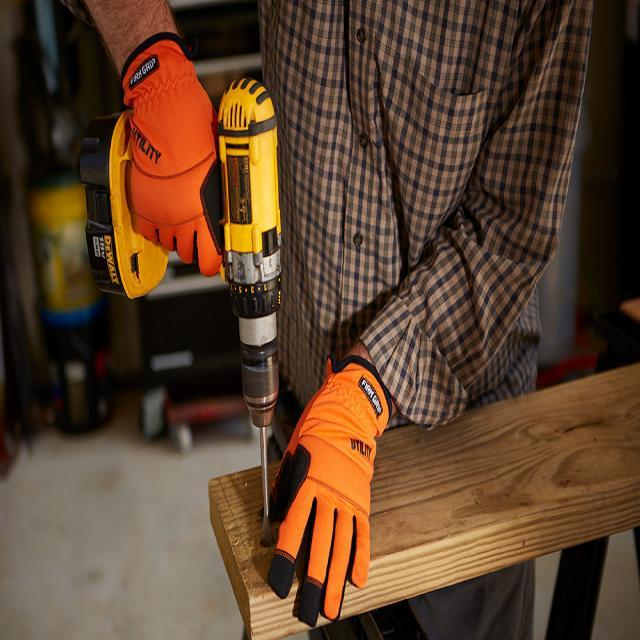Gloves: (264, 334, 388, 629), (124, 41, 230, 285)
